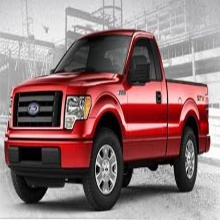no damage: (4, 29, 211, 210)
